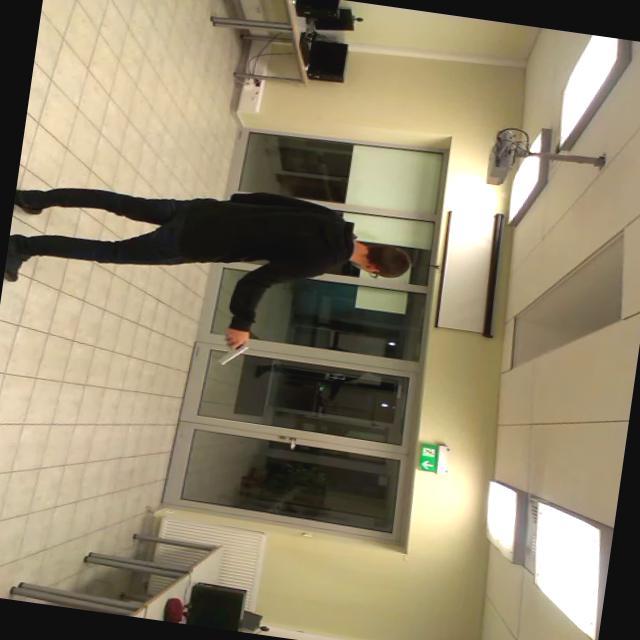handgun: (204, 333, 250, 372)
